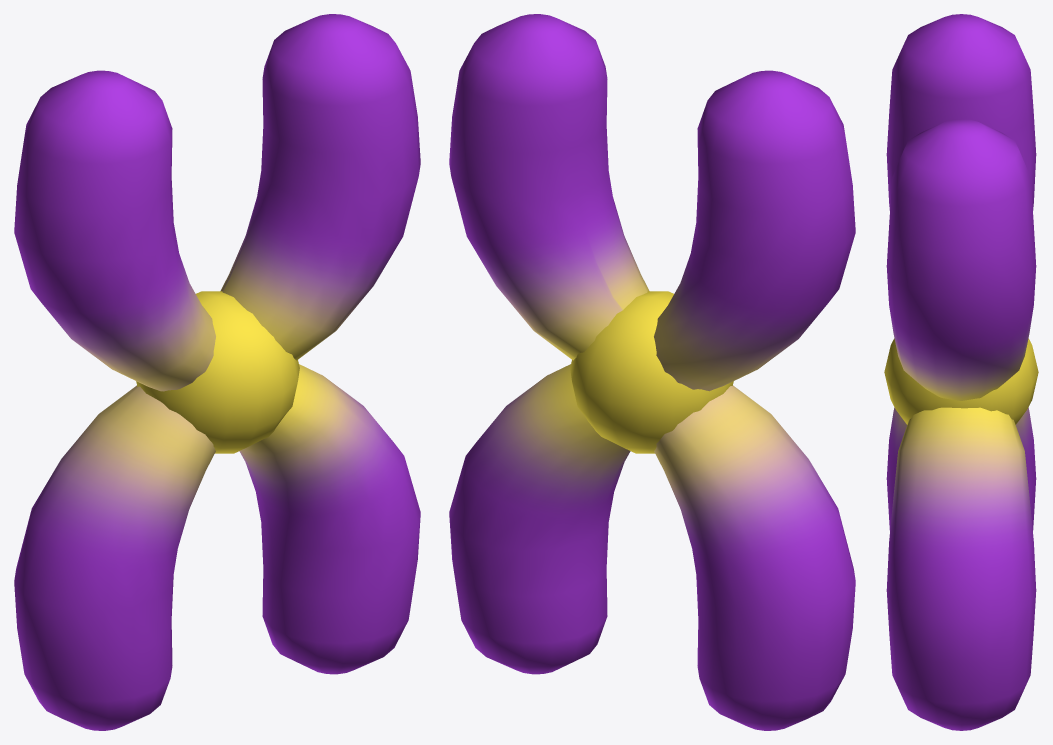
The model's file is DNA_A.fbx.
The picture shows the model from 3 angles, left to right: view 1: azimuth 30°, elevation 25°; view 2: azimuth 150°, elevation 25°; view 3: azimuth 270°, elevation 25°; orthographic projection. The views are drawn at different scales.
Parts seen in each view (by area): view 1: DNA_A; view 2: DNA_A; view 3: DNA_A.
Part boxes in pixels (x1=…): DNA_A: x1=14, y1=14, x2=420, y2=730; DNA_A: x1=449, y1=14, x2=855, y2=730; DNA_A: x1=884, y1=14, x2=1038, y2=730.
Bounding box in the file's own units: 198 × 316 × 74.05.
Materials: 1 (1 with a texture image).
